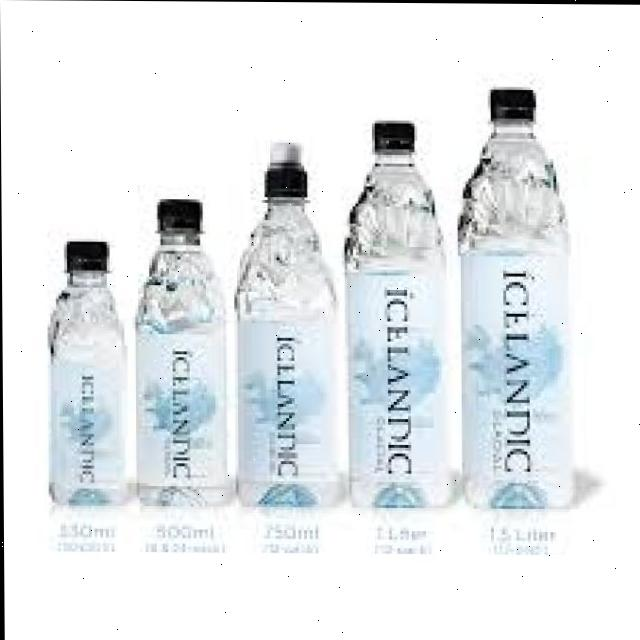bottle: (25, 49, 615, 523)
